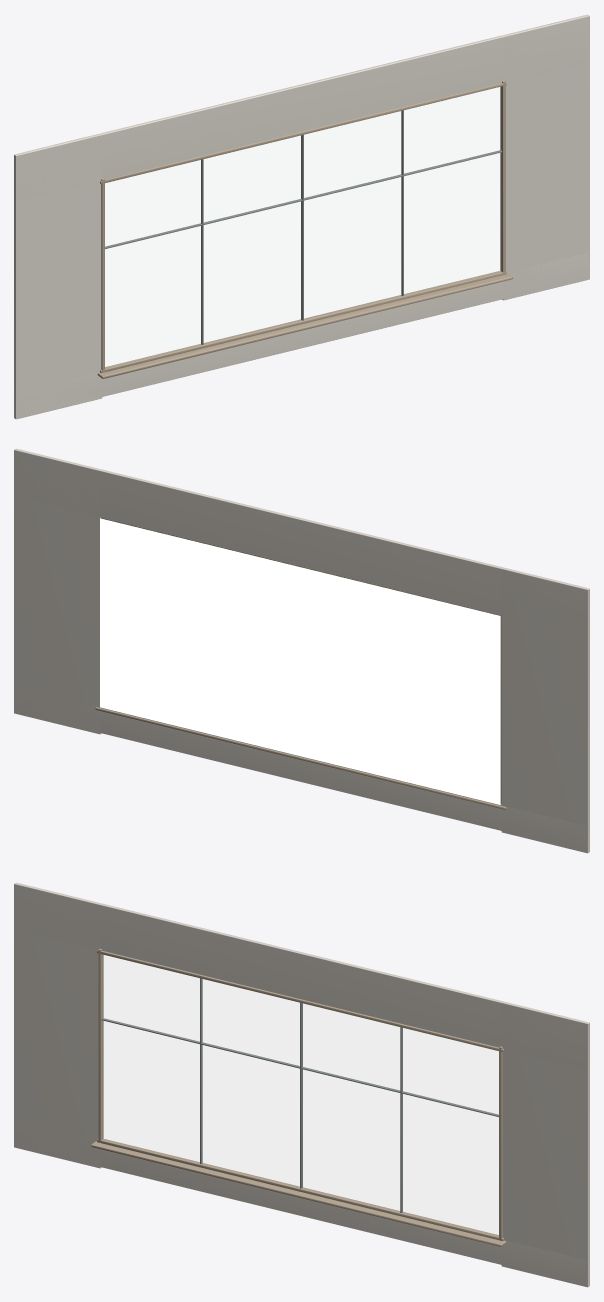
The model's file is distant_workshop_room.glb.
3 renders of one model, top to bottom at view 1: azimuth 30°, elevation 25°; view 2: azimuth 150°, elevation 25°; view 3: azimuth 330°, elevation 25°, orthographic.
Visible parts, largest first — view 1: Room_Interior_Walls, Outdoor_Window_View, Panoramic_Window_Frame; view 2: Outdoor_Window_View, Room_Interior_Walls, Panoramic_Window_Frame; view 3: Room_Interior_Walls, Outdoor_Window_View, Panoramic_Window_Frame.
Boxes of the visible parts, box(x1,y1,x2,y2) form: Room_Interior_Walls: box(14, 14, 589, 419); Outdoor_Window_View: box(105, 87, 500, 366); Panoramic_Window_Frame: box(97, 80, 512, 378); Outdoor_Window_View: box(100, 518, 500, 804); Room_Interior_Walls: box(14, 448, 589, 853); Panoramic_Window_Frame: box(95, 518, 506, 809); Room_Interior_Walls: box(14, 882, 589, 1287); Outdoor_Window_View: box(103, 955, 498, 1234); Panoramic_Window_Frame: box(91, 948, 506, 1246).
Size of the model in its own units: 41 by 18 by 0.95.
